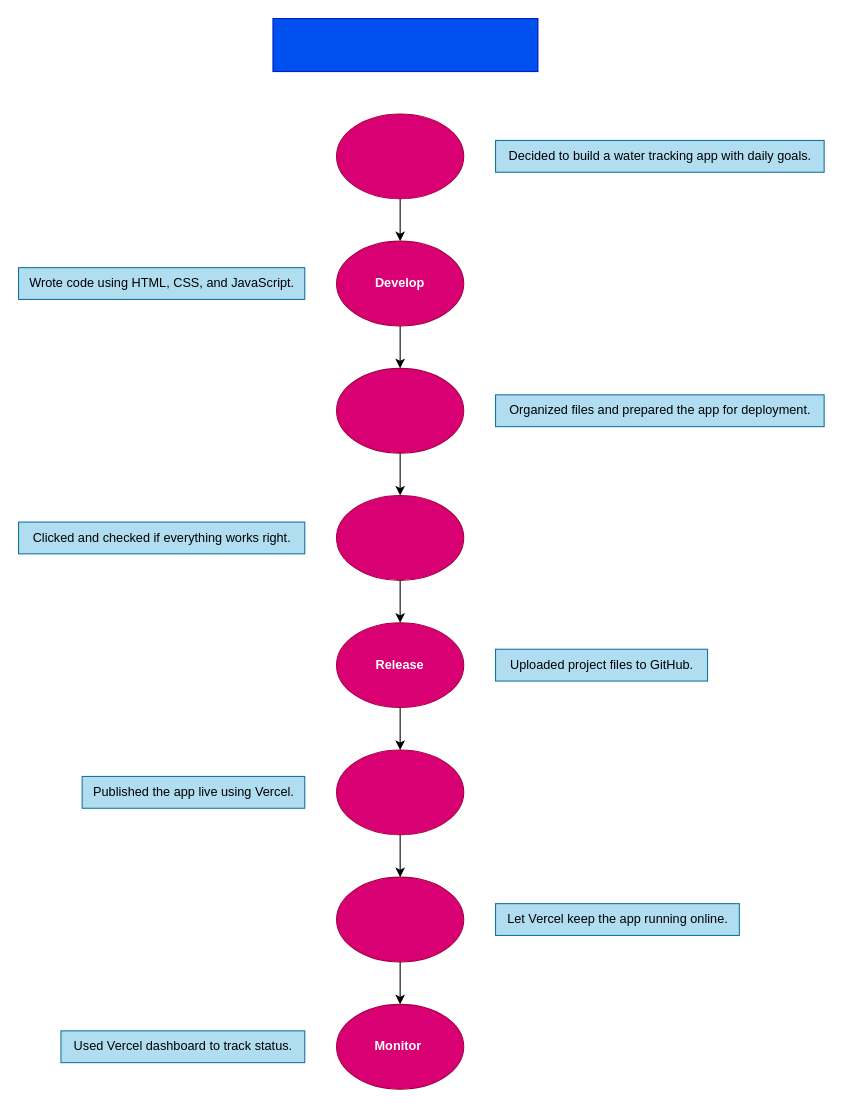
This 843x1108 diagram has some shape labels left out. The centre of each missing label's shape, as x and y in pixels:
Build: (399,410)
DAILY WATER TRACKER: (405,44)
Deploy: (399,792)
Operate: (399,919)
Plan: (399,156)
Test: (399,537)
